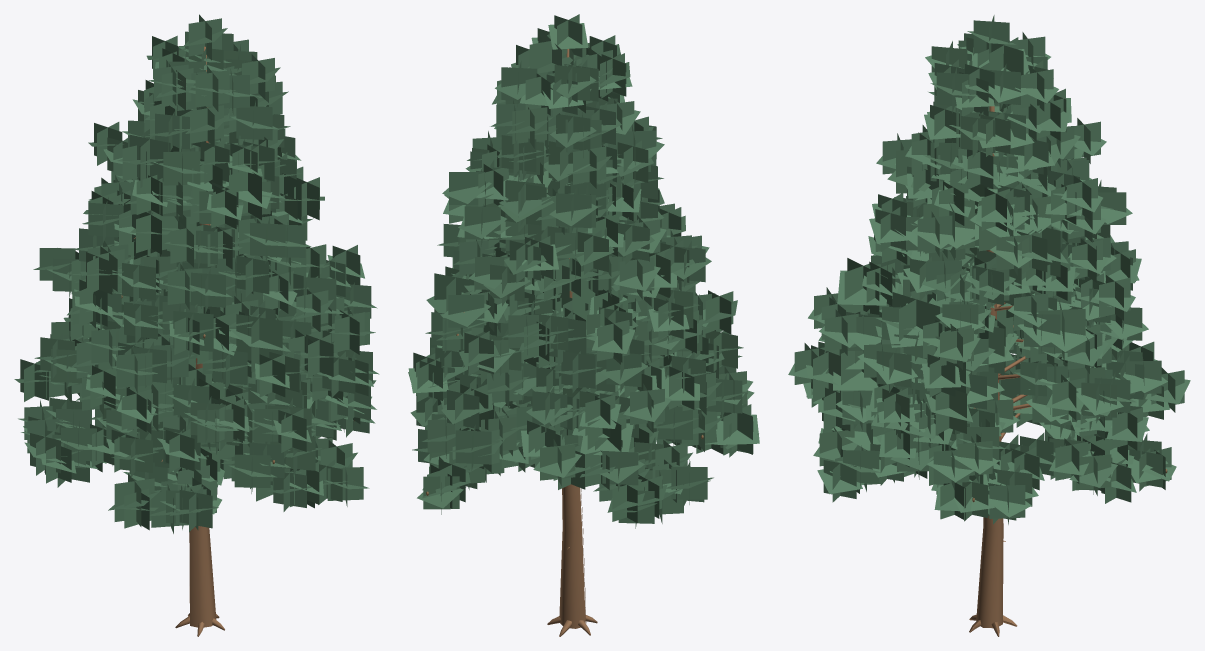
The model's file is pin_2_f2_jeu.glb.
3 renders of one model, left to right at view 1: azimuth 30°, elevation 25°; view 2: azimuth 150°, elevation 25°; view 3: azimuth 270°, elevation 25°, orthographic.
Visible parts, largest first — view 1: Pin_T2_f2_Leger; view 2: Pin_T2_f2_Leger; view 3: Pin_T2_f2_Leger.
Boxes of the visible parts, x1,y1,x2,y2 form: Pin_T2_f2_Leger: [14, 14, 379, 636]; Pin_T2_f2_Leger: [408, 14, 759, 636]; Pin_T2_f2_Leger: [788, 15, 1190, 636].
Size of the model in its own units: 6.25 by 11.56 by 6.95.
